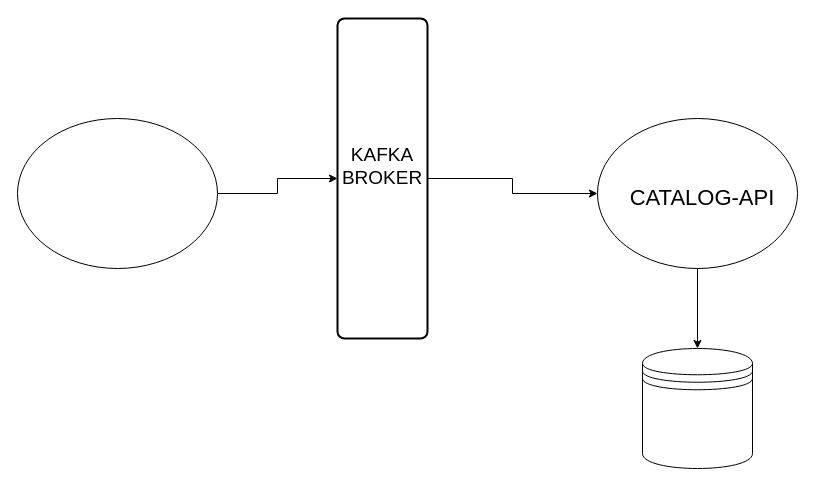
The diagram is 815 pixels wide and 486 high, and some of its shapes have lost their labels. The shapes that lost their labels are listed below. From the top down, each one's box as (x1, y1, x2, y2) in pixels, then its label:
(16, 118, 218, 268): ORDER-API
(642, 348, 752, 468): SQLSERVER
